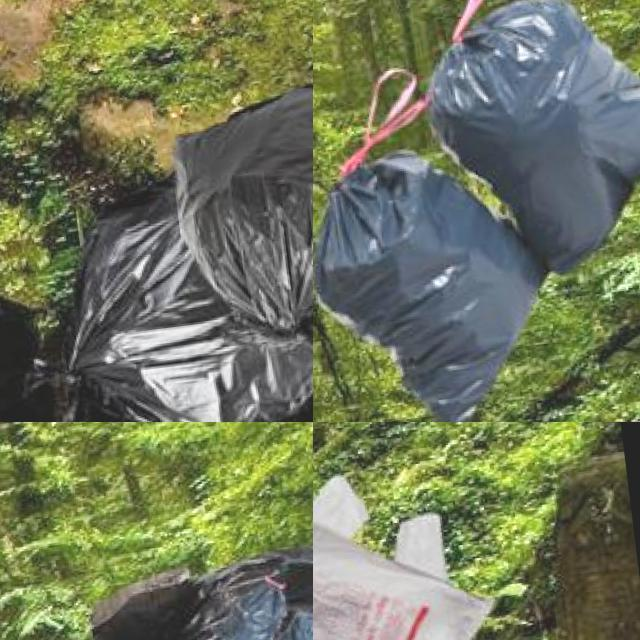waste: (313, 131, 564, 421), (33, 176, 313, 422), (422, 0, 640, 272), (168, 71, 313, 322), (313, 461, 513, 640), (313, 476, 489, 640), (70, 535, 313, 640), (217, 570, 287, 640), (272, 600, 313, 640)
